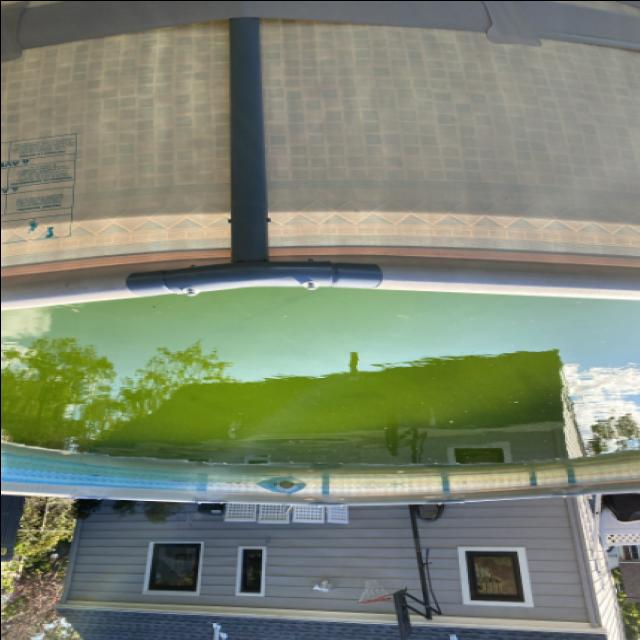Breeding Place: (0, 17, 640, 509)
